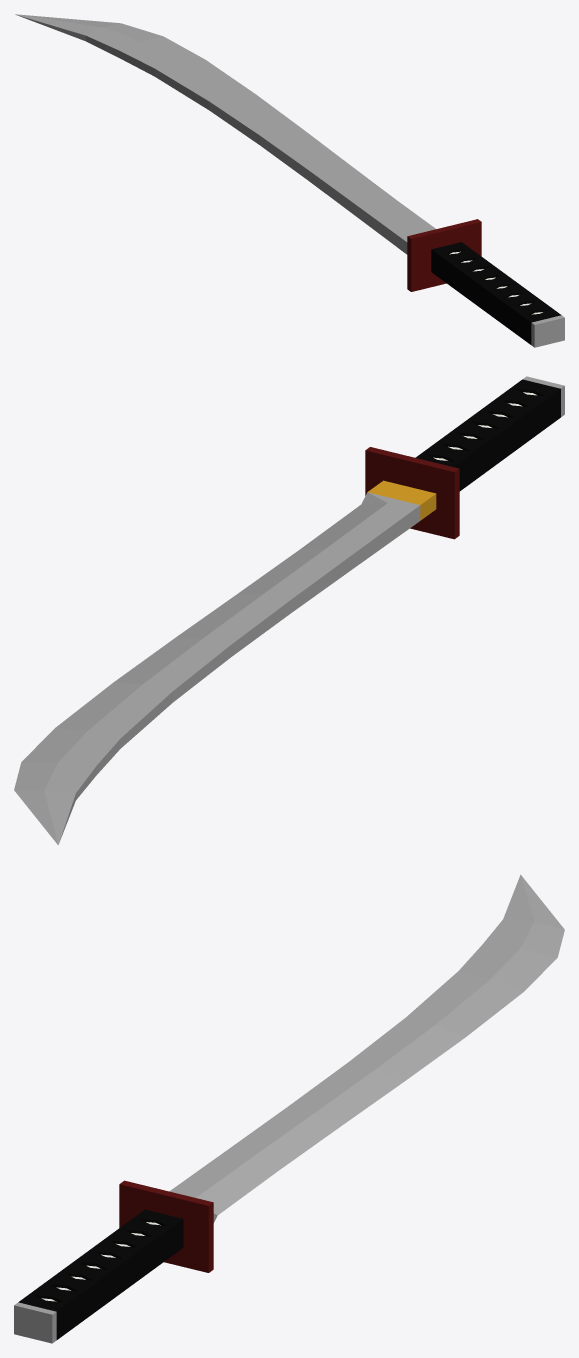
The model's file is Curved Ko Katana - Textured Low Poly Asian Weapon Pack by Kickin It Studios.fbx.
3 views of the same model, one above another, from view 1: azimuth 30°, elevation 25°; view 2: azimuth 150°, elevation 25°; view 3: azimuth 330°, elevation 25° (orthographic). The views are drawn at different scales.
Parts seen in each view (by area): view 1: Curved Ko Katana; view 2: Curved Ko Katana; view 3: Curved Ko Katana.
Part boxes in pixels (box(x1,y1,x2,y2)): Curved Ko Katana: box(15, 14, 564, 347); Curved Ko Katana: box(14, 376, 564, 845); Curved Ko Katana: box(14, 874, 564, 1343).
Size of the model in its own units: 93.72 by 42.86 by 674.
